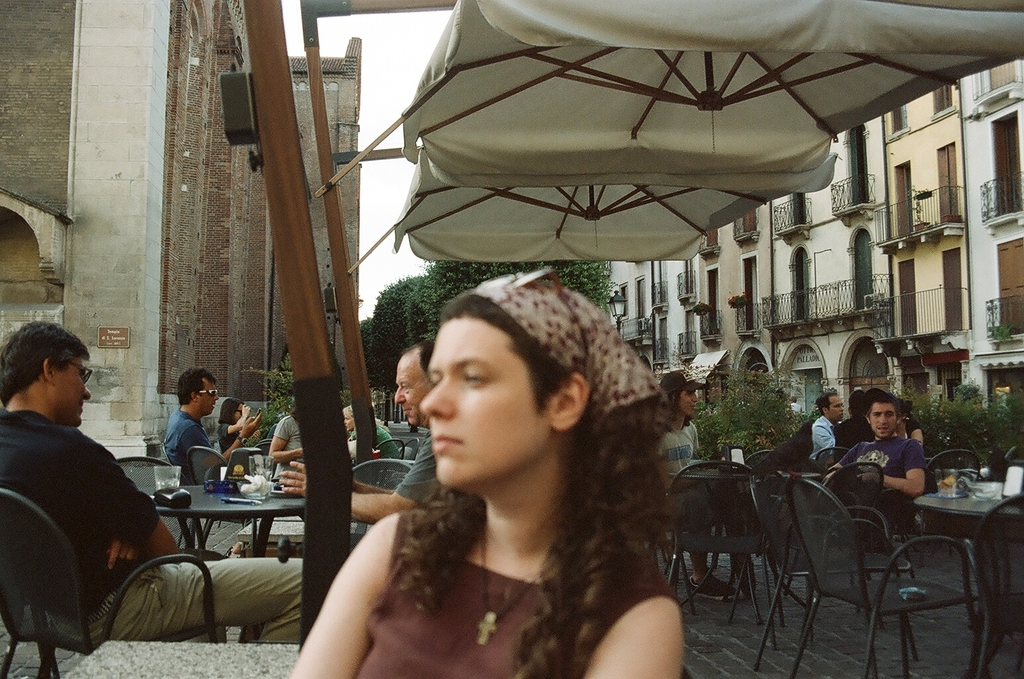Window: (928, 87, 958, 113), (891, 104, 908, 141)
